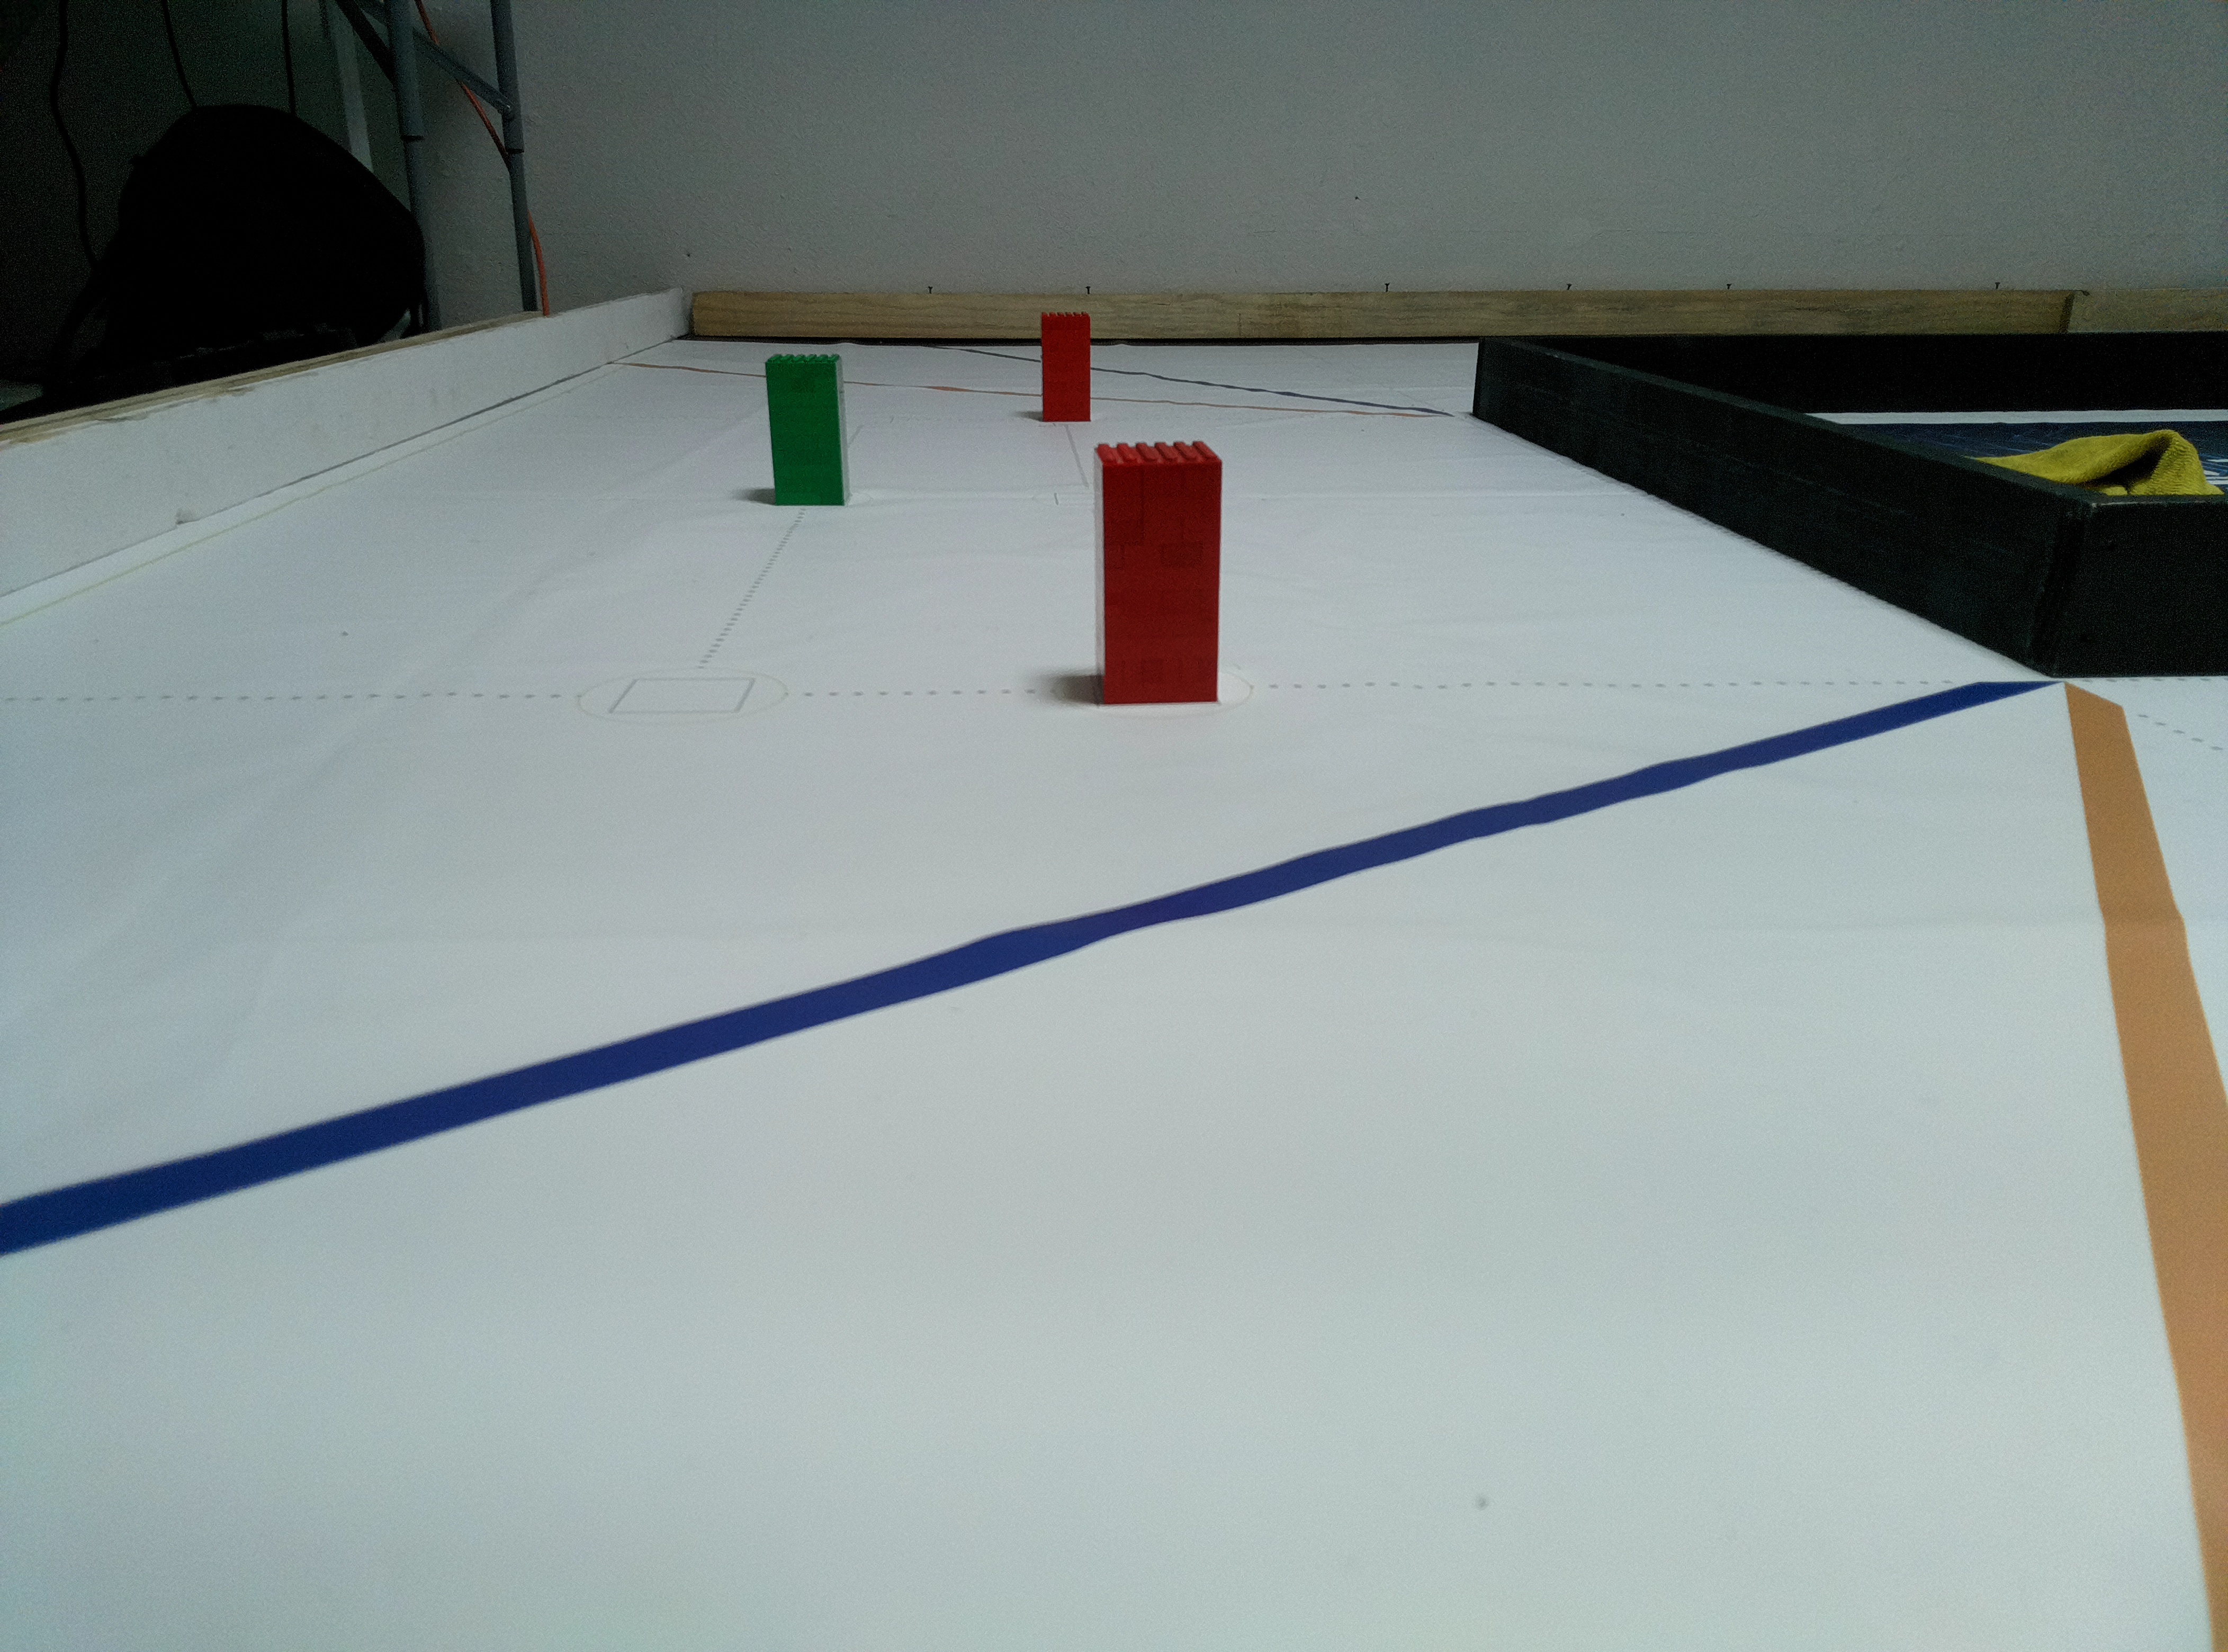greenbox: (763, 352, 850, 507)
redbox: (1088, 437, 1223, 706), (1039, 311, 1091, 422)
